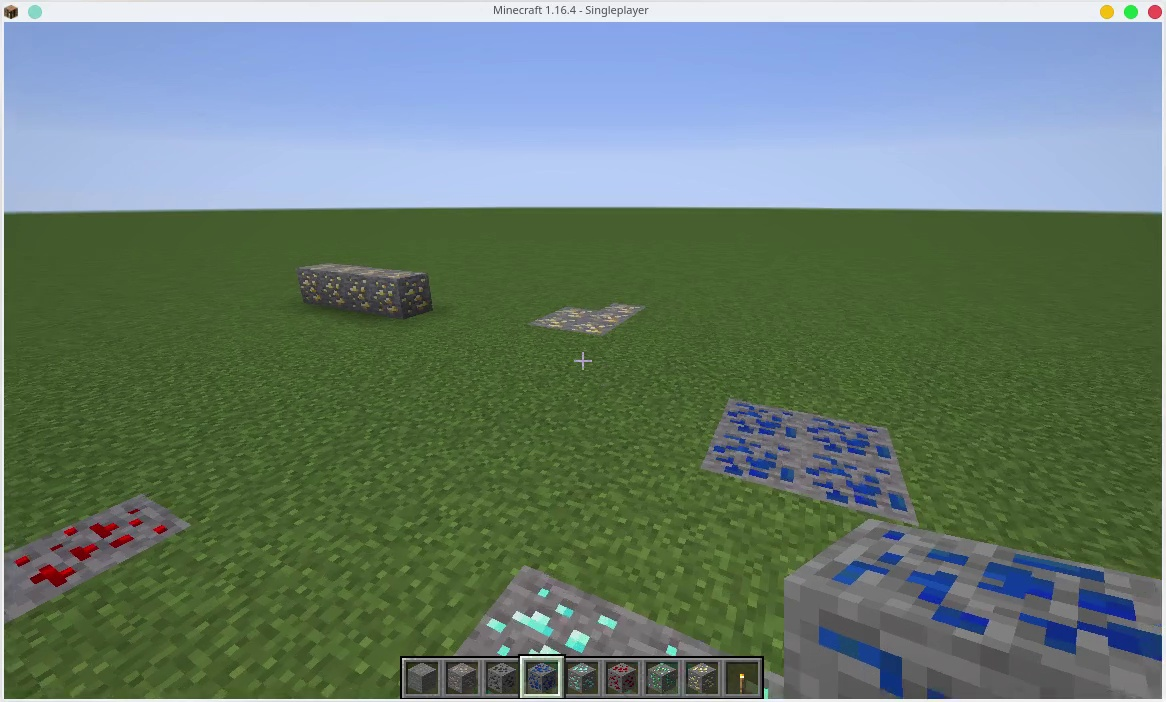gold: (375, 272, 433, 317), (346, 266, 371, 313), (321, 261, 343, 311), (294, 261, 319, 304), (686, 661, 715, 691), (571, 320, 613, 336), (534, 313, 571, 326), (609, 299, 643, 313), (557, 305, 594, 316), (590, 308, 627, 317)
